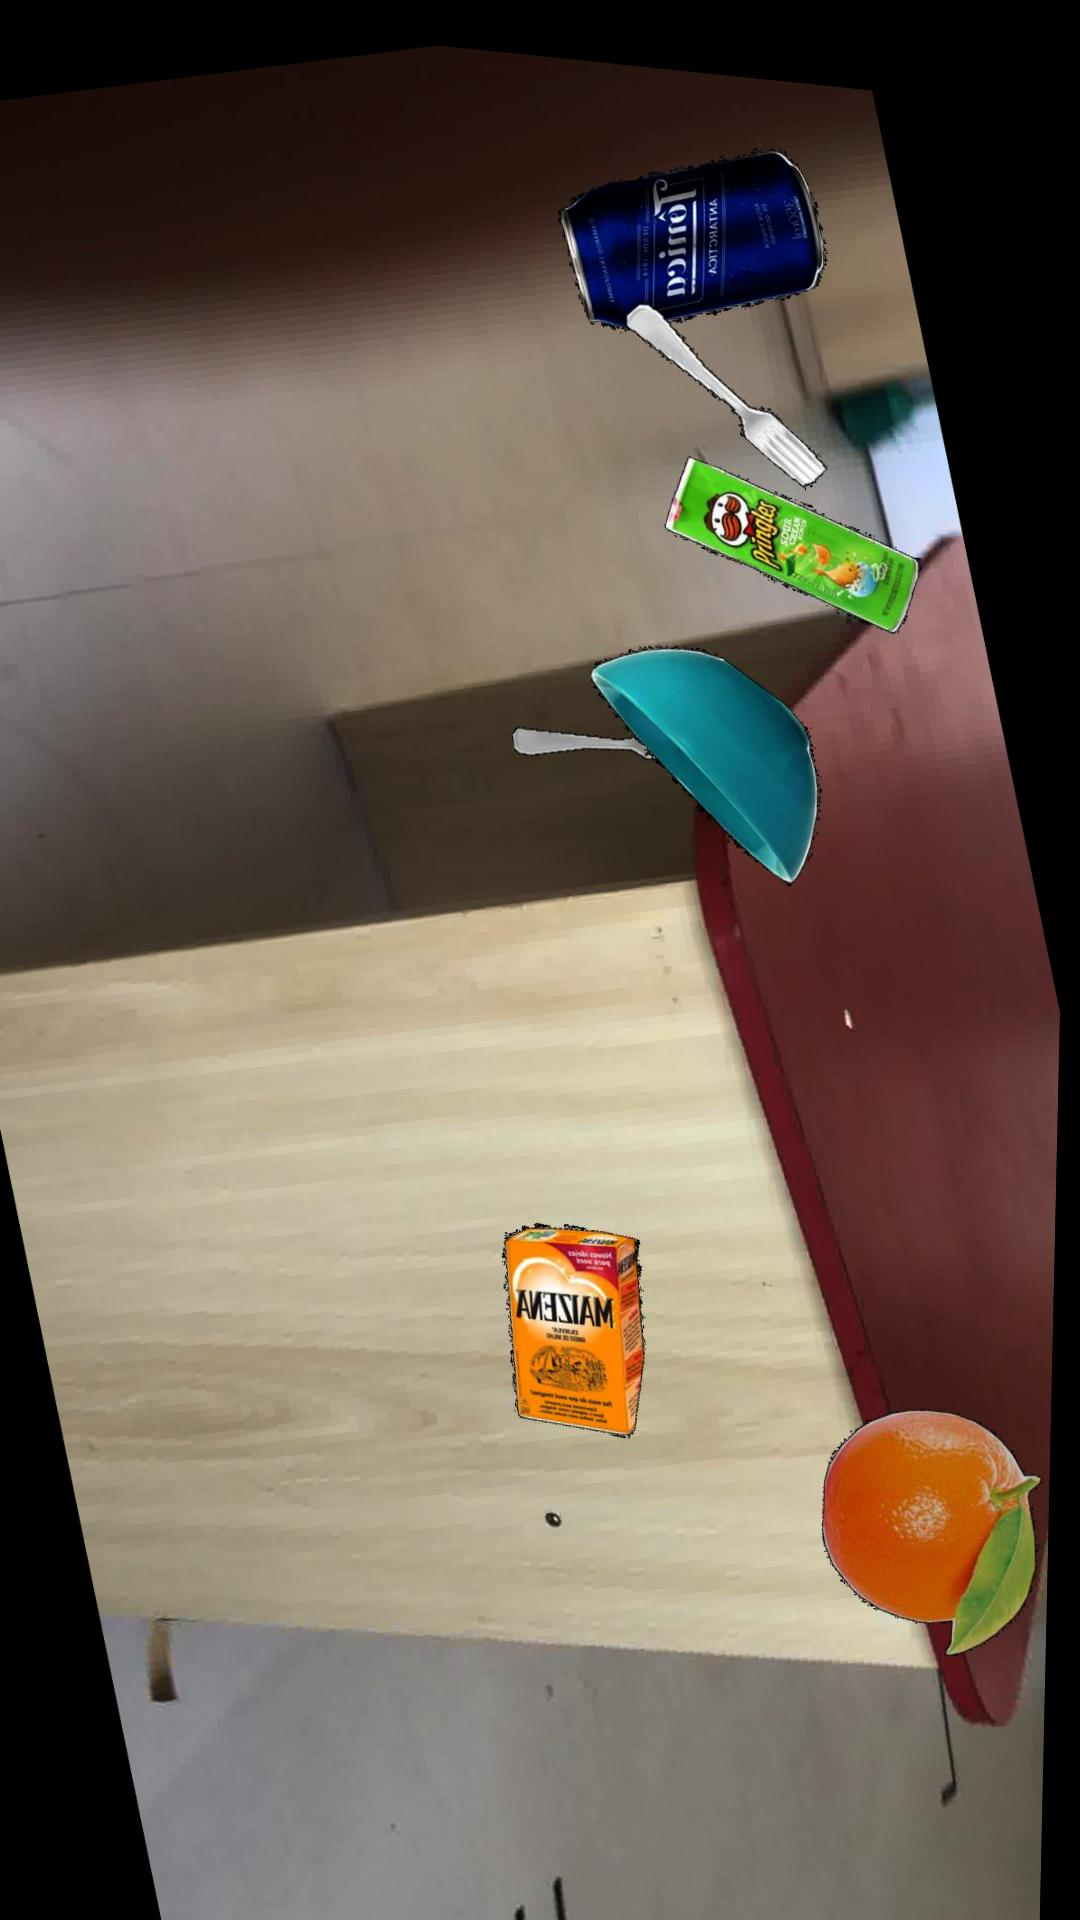bowl: (591, 628, 820, 862)
fork: (624, 286, 825, 467), (512, 712, 653, 742)
orange: (825, 1386, 1046, 1631)
pringles: (663, 439, 920, 611)
tonic: (555, 131, 825, 314)
